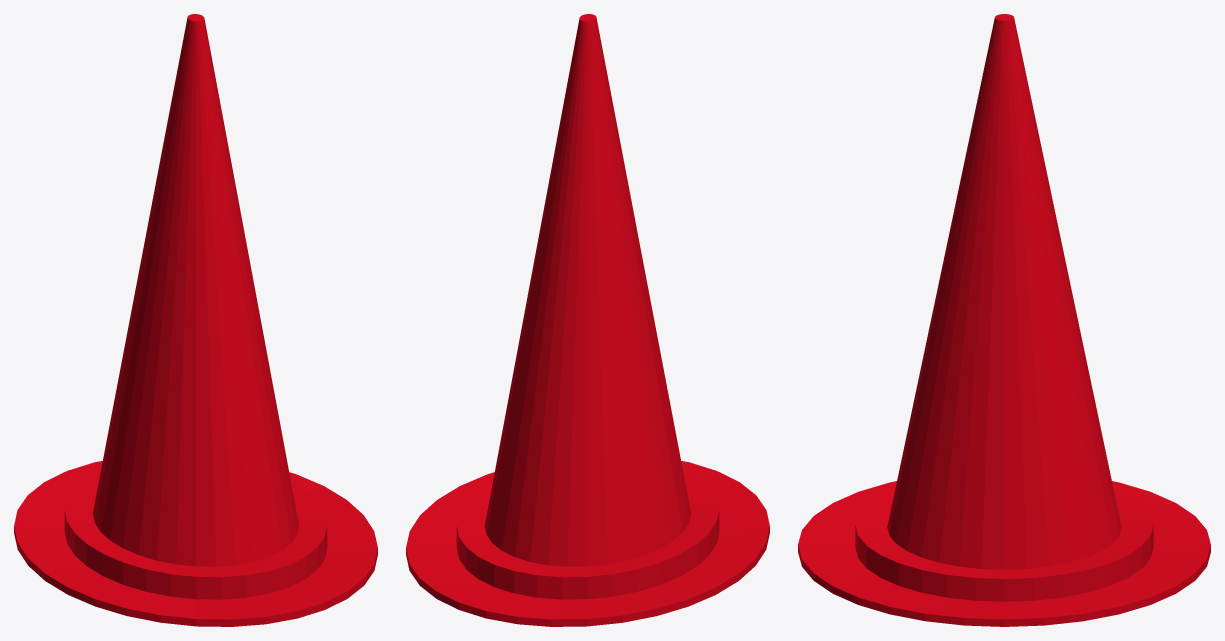
The model's file is traffic_cone.dae.
3 views of the same model, side by side, from view 1: azimuth 30°, elevation 25°; view 2: azimuth 150°, elevation 25°; view 3: azimuth 270°, elevation 25° (orthographic).
Parts seen in each view (by area): view 1: Cone; view 2: Cone; view 3: Cone.
Boxes of the visible parts, x1,y1,x2,y2 form: Cone: (14, 14, 377, 626); Cone: (406, 14, 769, 626); Cone: (798, 14, 1210, 626).
Bounding box in the file's own units: 0.3 × 0.35 × 0.5.
